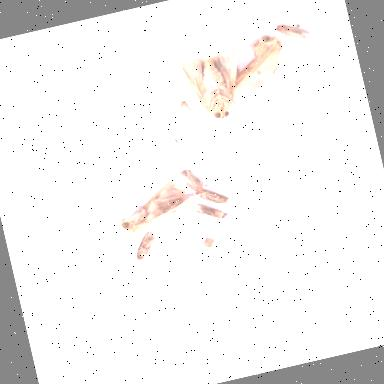abw: (170, 34, 256, 134), (107, 172, 208, 240), (220, 32, 295, 106)
pbw: (195, 180, 242, 216), (272, 16, 318, 52), (128, 230, 162, 266), (194, 198, 232, 228), (176, 165, 207, 197), (177, 99, 199, 129)
